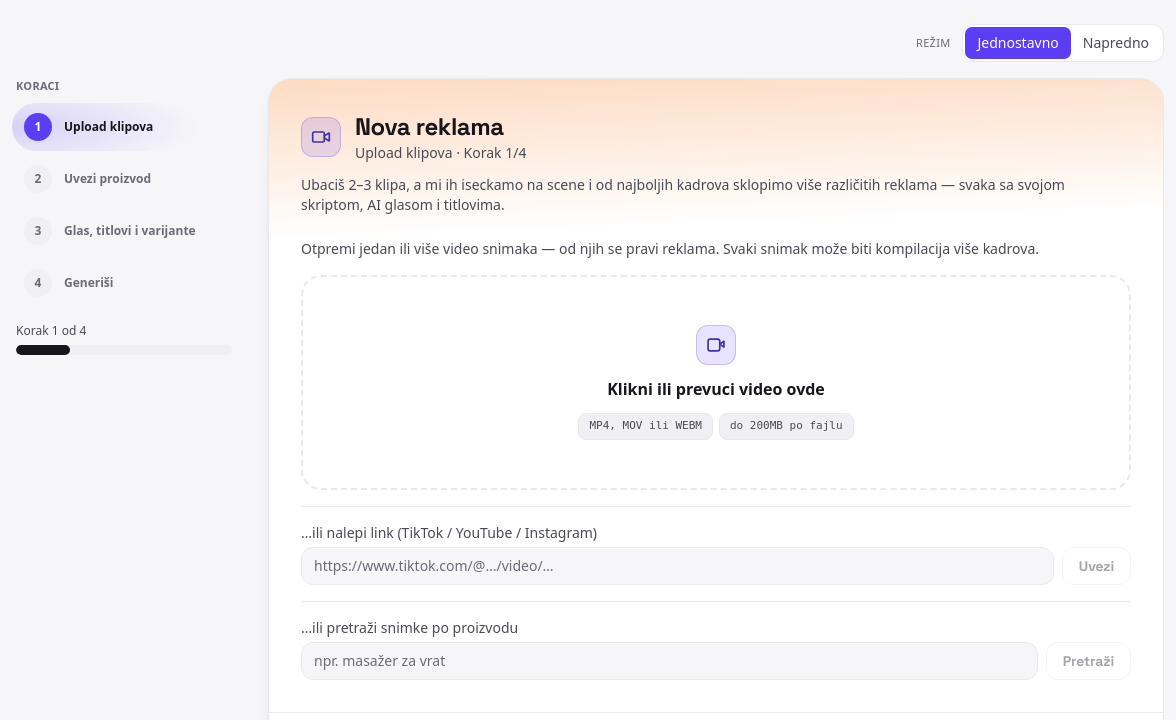
MatrixPage › a 402 from /api/jobs surfaces instead of leaving the wizard looking busy
Step 1. Click the button "4 Generiši" → (124, 282), box [12, 258, 236, 306]
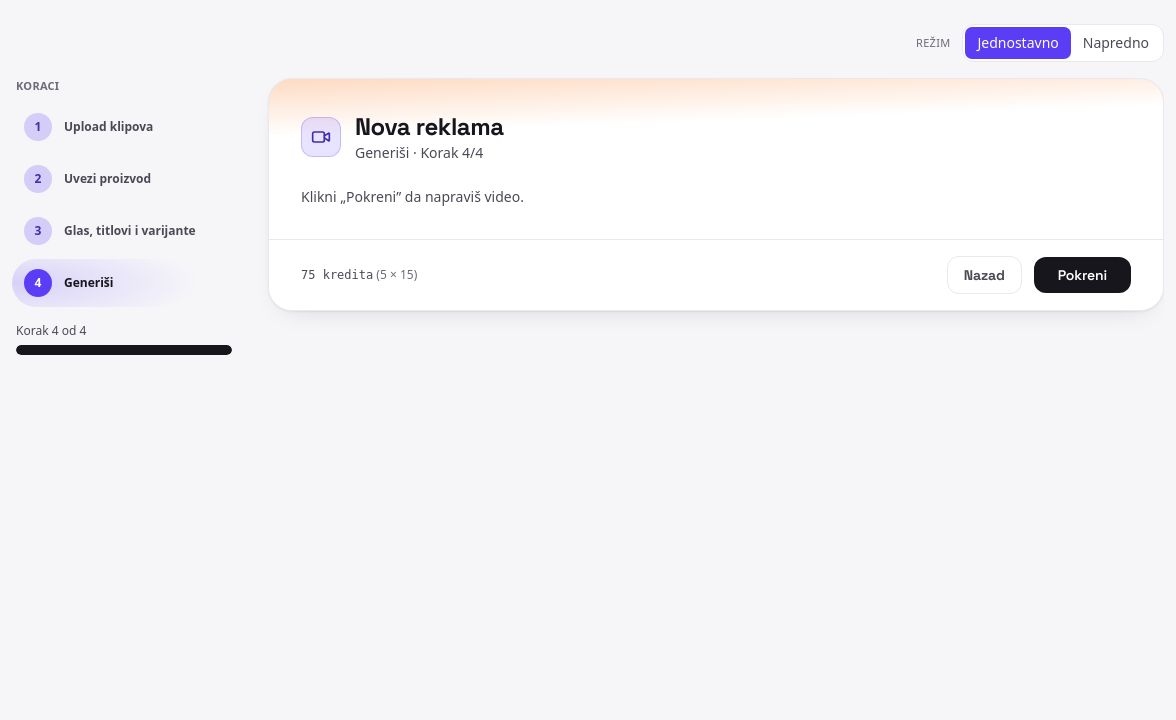
Step 2. Click the button "Pokreni" → (1082, 275), box [1034, 257, 1131, 293]
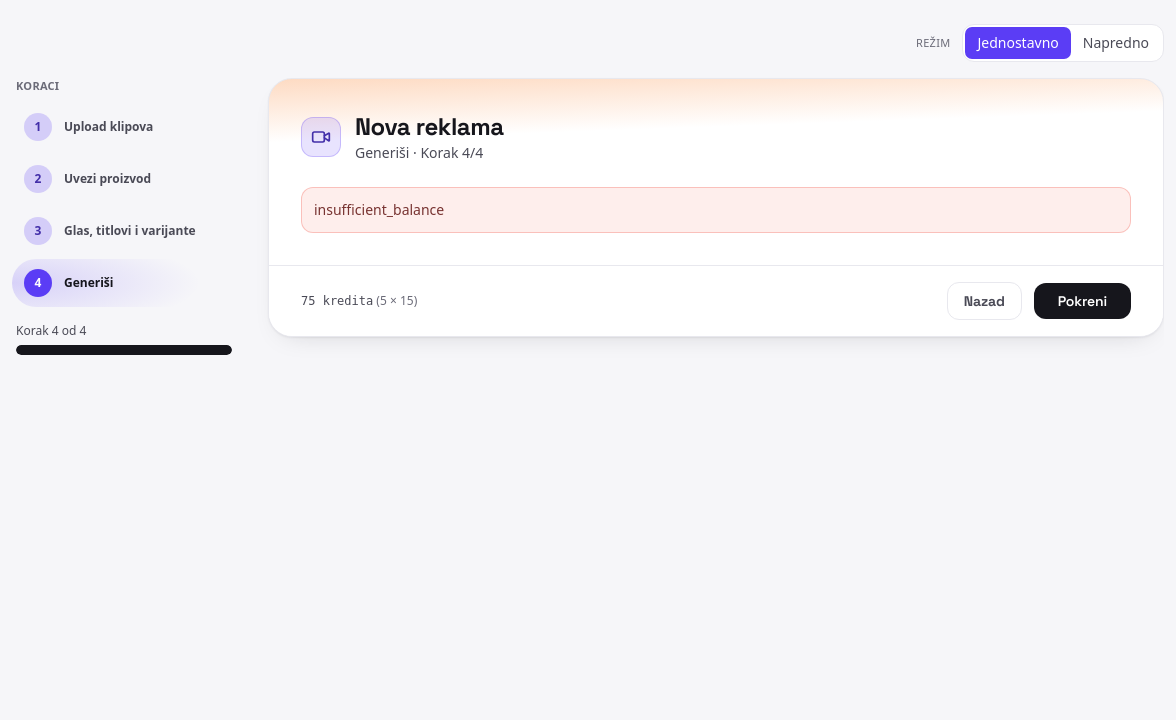
Expected: the button "Pokreni" is enabled, [1034, 283, 1131, 319]
Expected: the message "insufficient_balance" is shown, [301, 187, 1131, 233]
